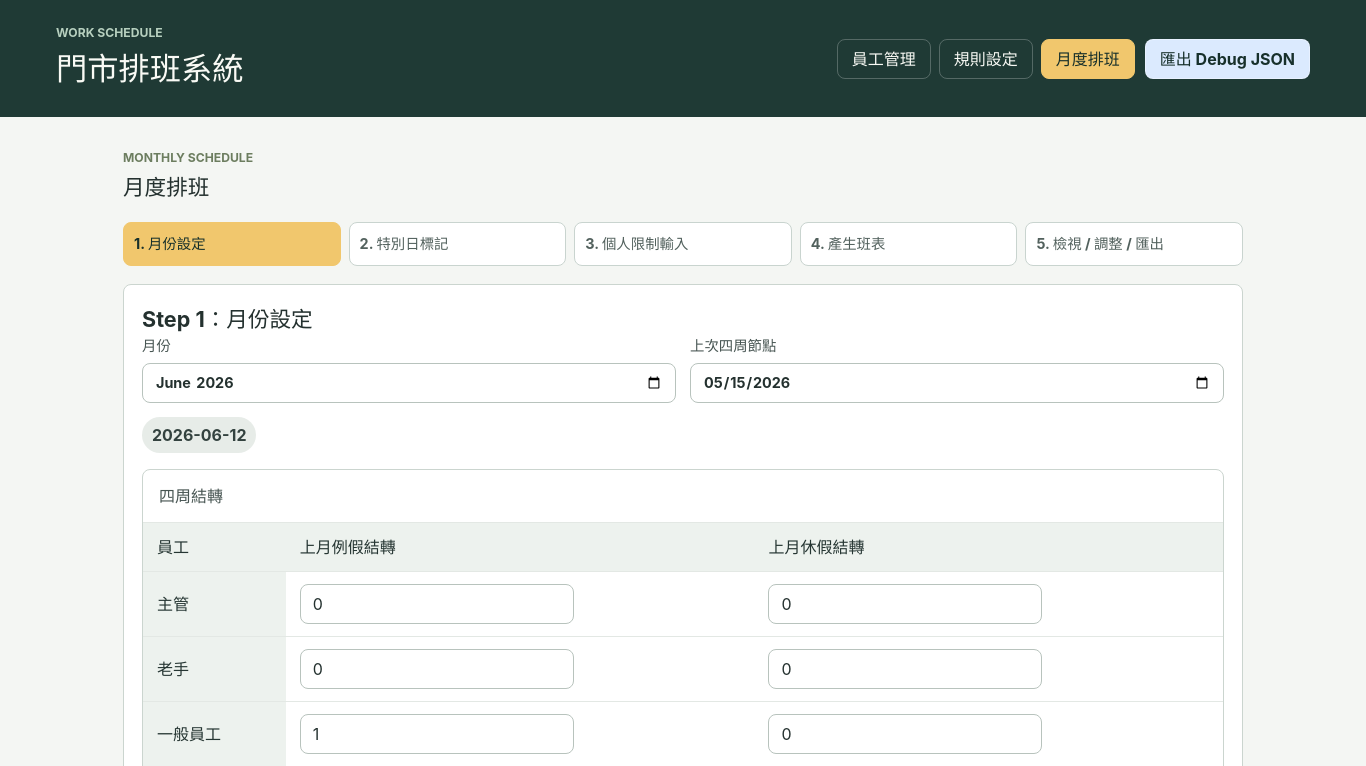
App › loads previous-month last shifts from a saved schedule into employees
This screenshot has width=1366, height=766.
Step 1. Click the tab "員工管理" → coordinates (884, 59), box [837,39,931,79]
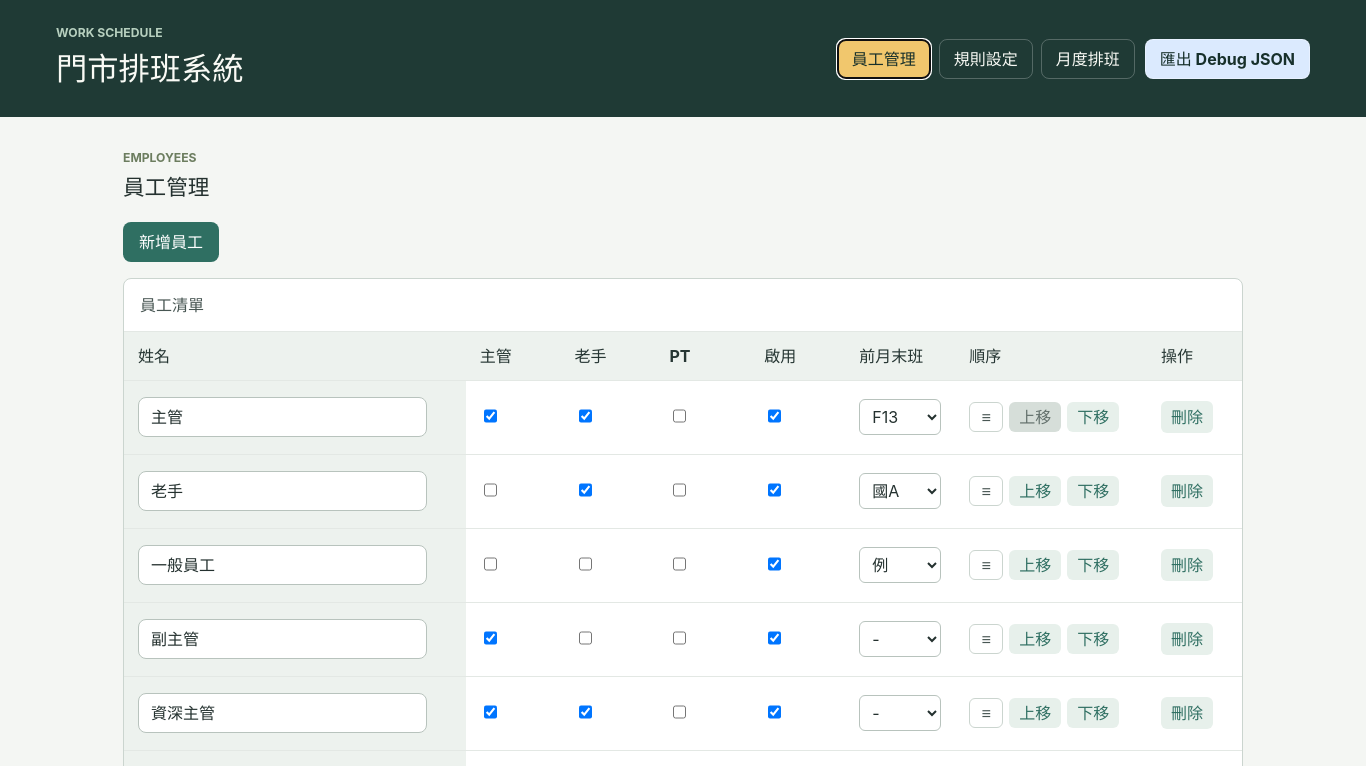
expect the dropdown named "員工 1 前月末班" shows "F13": met, box [859,399,941,435]
expect the dropdown named "員工 2 前月末班" shows "國A": met, box [859,473,941,509]
expect the dropdown named "員工 3 前月末班" shows "例": met, box [859,547,941,583]
